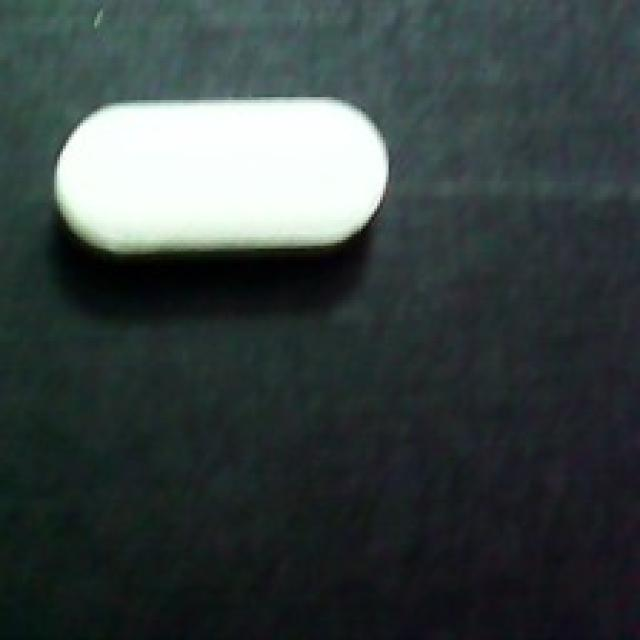no-defect: (51, 89, 394, 271)
